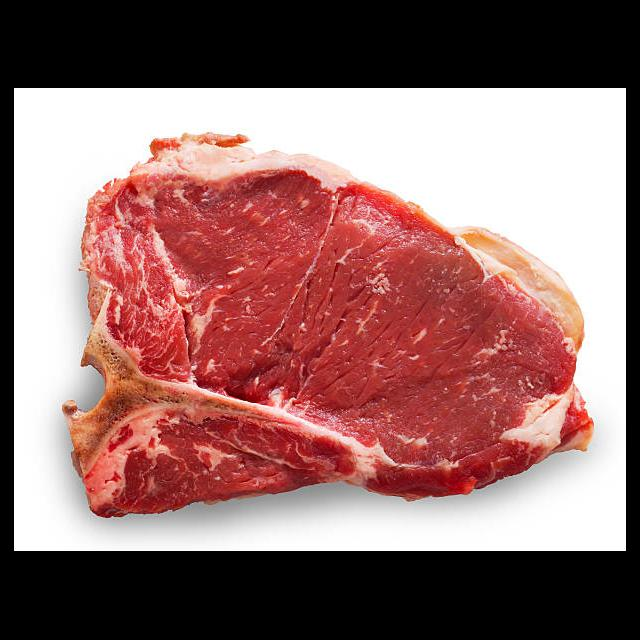beef: (63, 128, 595, 518)
